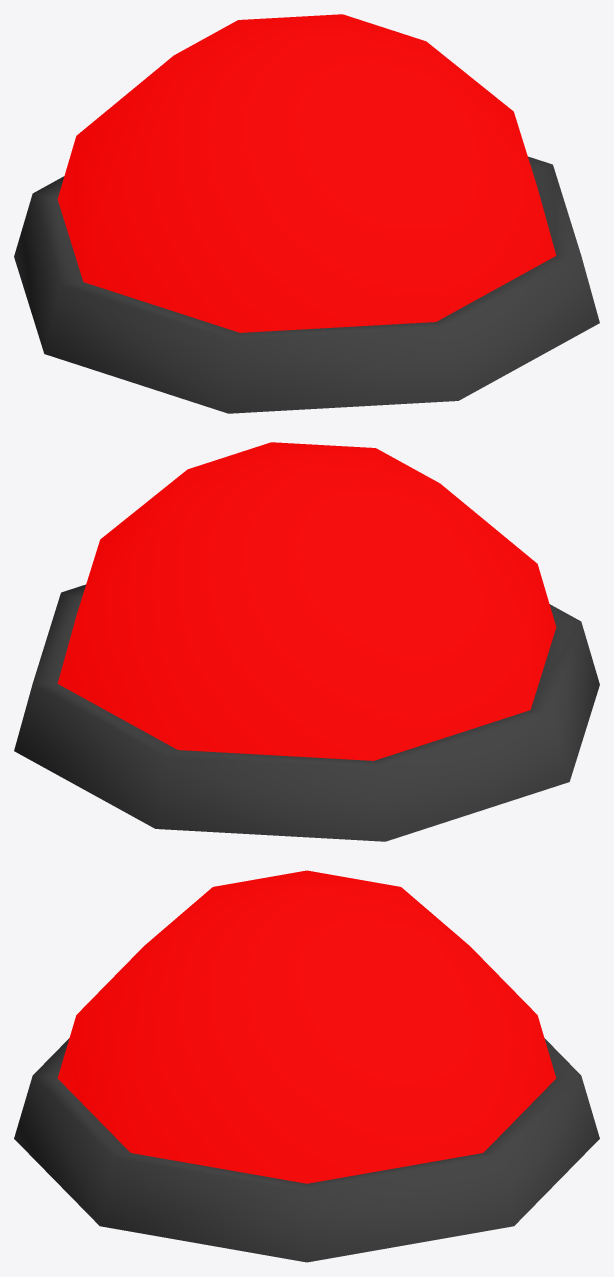
The model's file is box-light.gltf.
3 views of the same model, one above another, from view 1: azimuth 30°, elevation 25°; view 2: azimuth 150°, elevation 25°; view 3: azimuth 270°, elevation 25° (orthographic). The views are drawn at different scales.
Visible parts, largest first — view 1: LightMesh, LightFrameMesh; view 2: LightMesh, LightFrameMesh; view 3: LightMesh, LightFrameMesh.
Part boxes in pixels (x1,y1,x2,y2): LightMesh: [57, 14, 556, 332]; LightFrameMesh: [14, 156, 599, 413]; LightMesh: [57, 442, 556, 760]; LightFrameMesh: [14, 584, 599, 841]; LightMesh: [57, 870, 556, 1183]; LightFrameMesh: [14, 1038, 599, 1262].
Size of the model in its own units: 0.22 by 0.1012 by 0.22.
